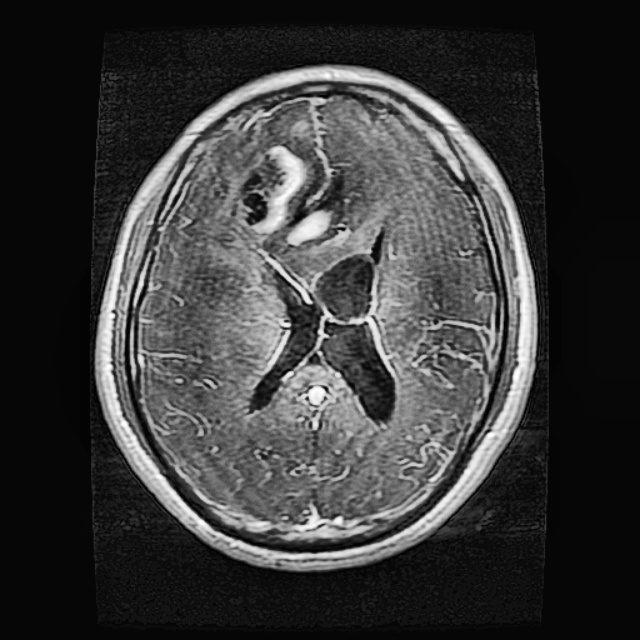Glioma: (253, 244, 395, 414)
